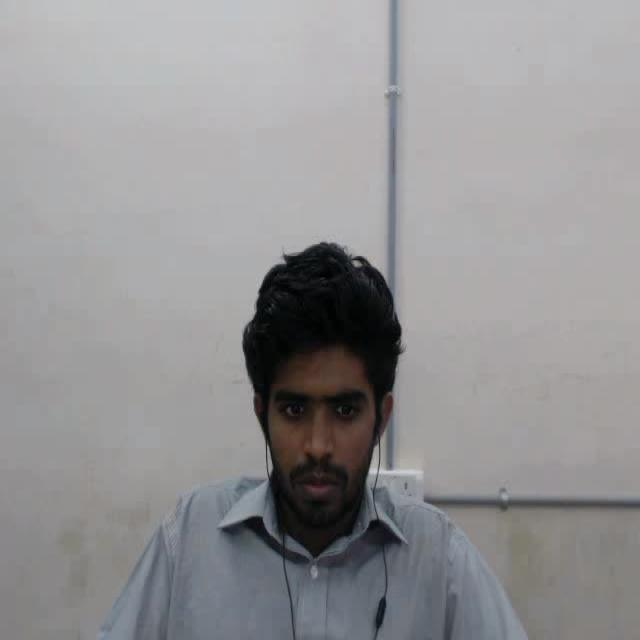Engaged: (210, 204, 455, 530)
